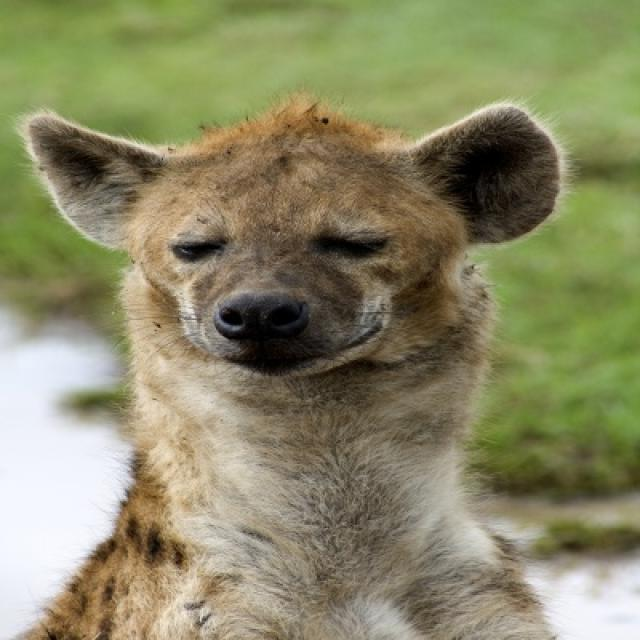hyena: (16, 91, 571, 638)
